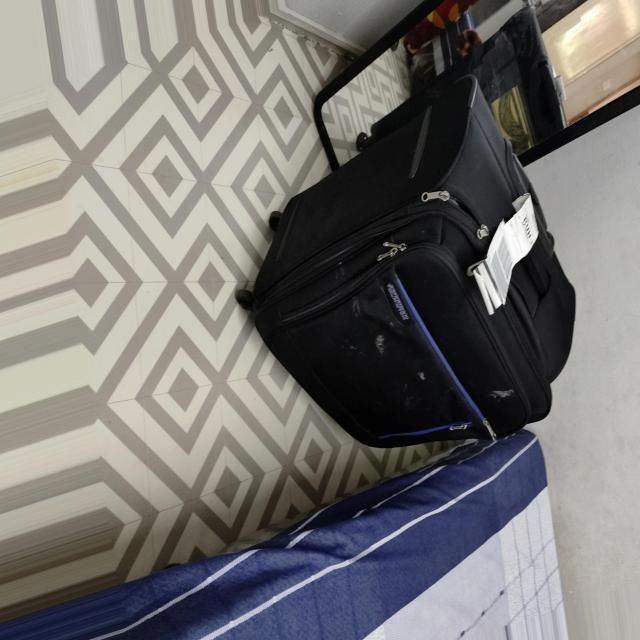Suitcase: (228, 68, 582, 447)
